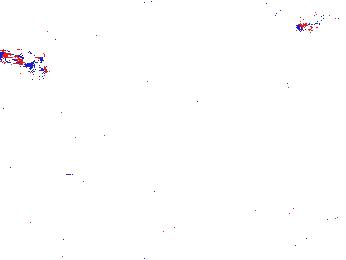glassfish: (205, 140, 308, 212)
red belly glassfish: (1, 44, 46, 70), (293, 14, 332, 34), (279, 75, 292, 101)
redtail glassfish: (270, 5, 334, 23)
